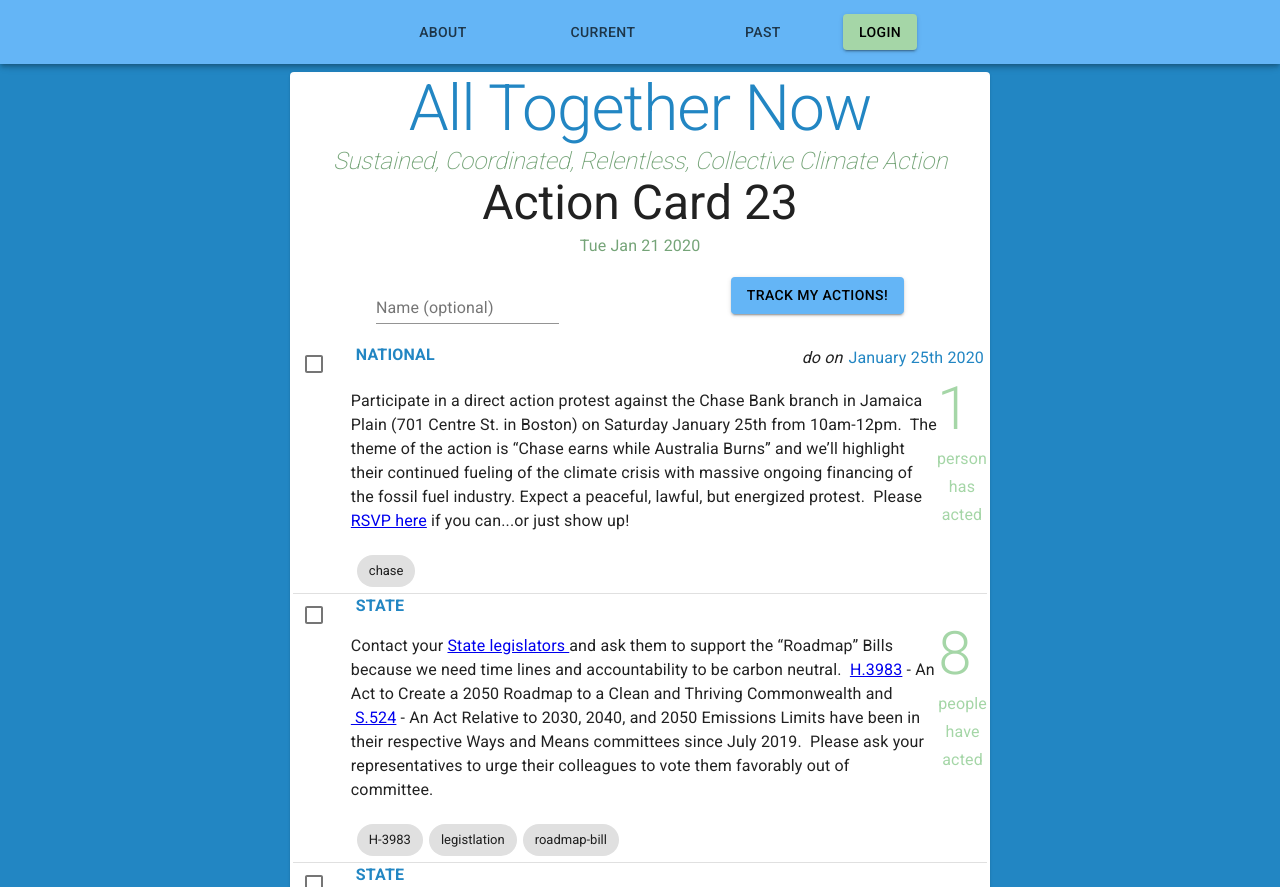
Test: navigation › goes from current to past and back
The width and height of the screenshot is (1280, 887).
Check: the heading "Action Card 23" is shown, box [482,174,798,232]
Click the tab "Past".
click(763, 32)  # box [745,24,781,40]
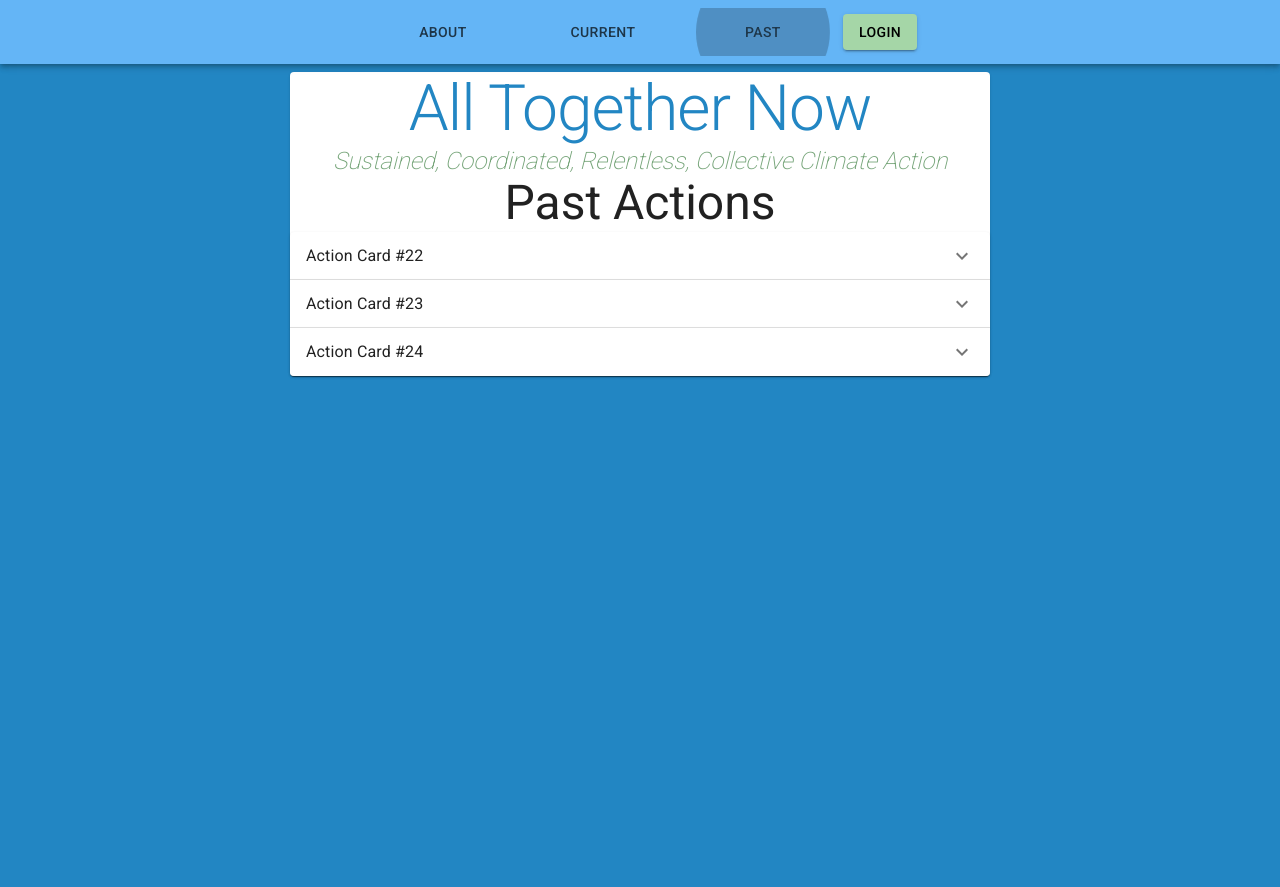
Check: the heading "Past Actions" is shown, box [504,174,776,232]
Go "back"
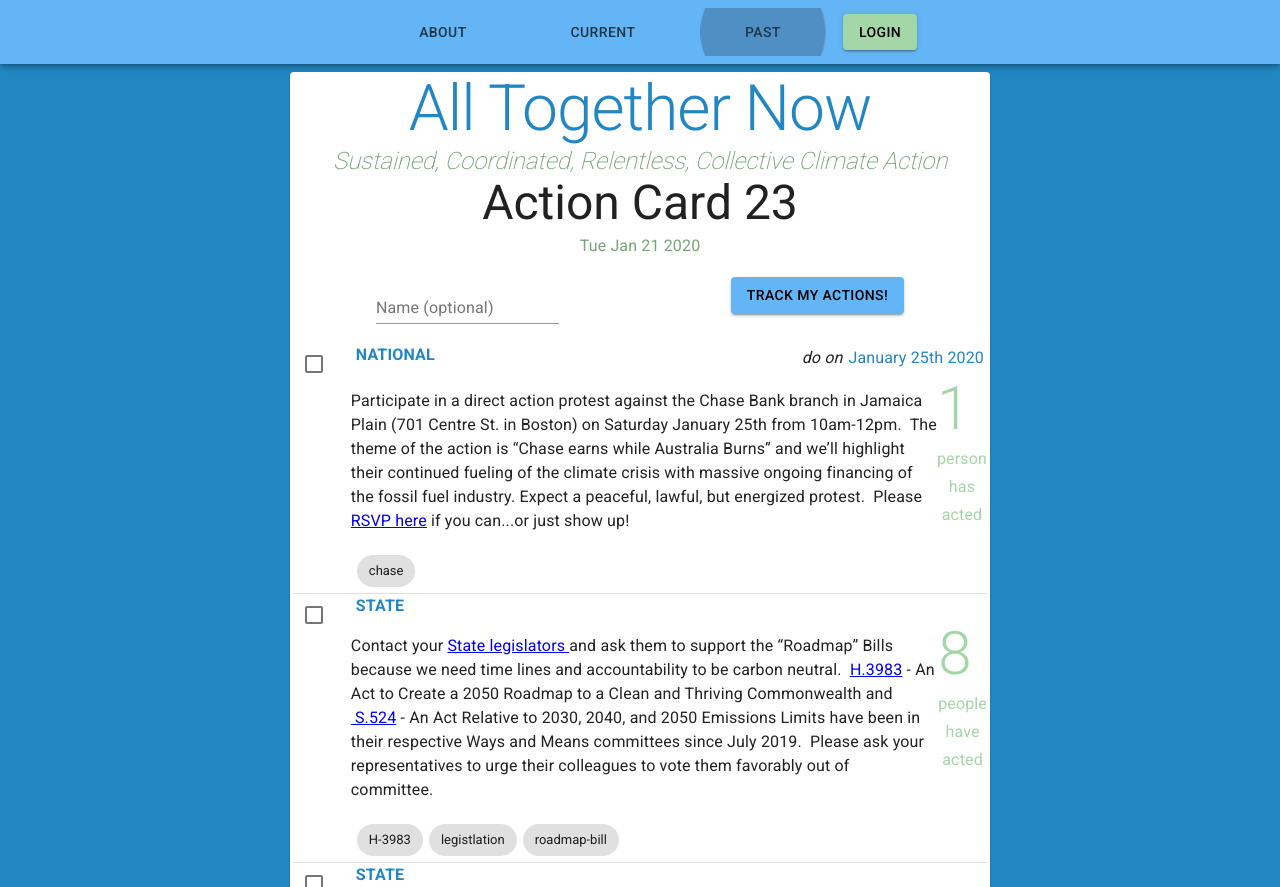
Check: the heading "Action Card 23" is shown, box [482,174,798,232]
